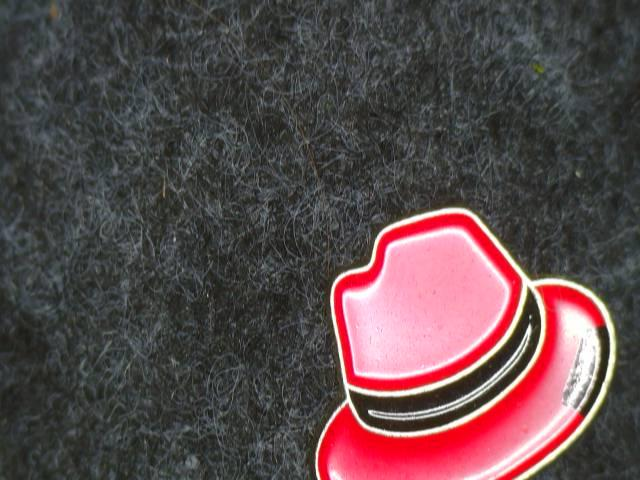Red-Hat: (265, 188, 640, 480)
Scratch: (557, 307, 628, 427)
